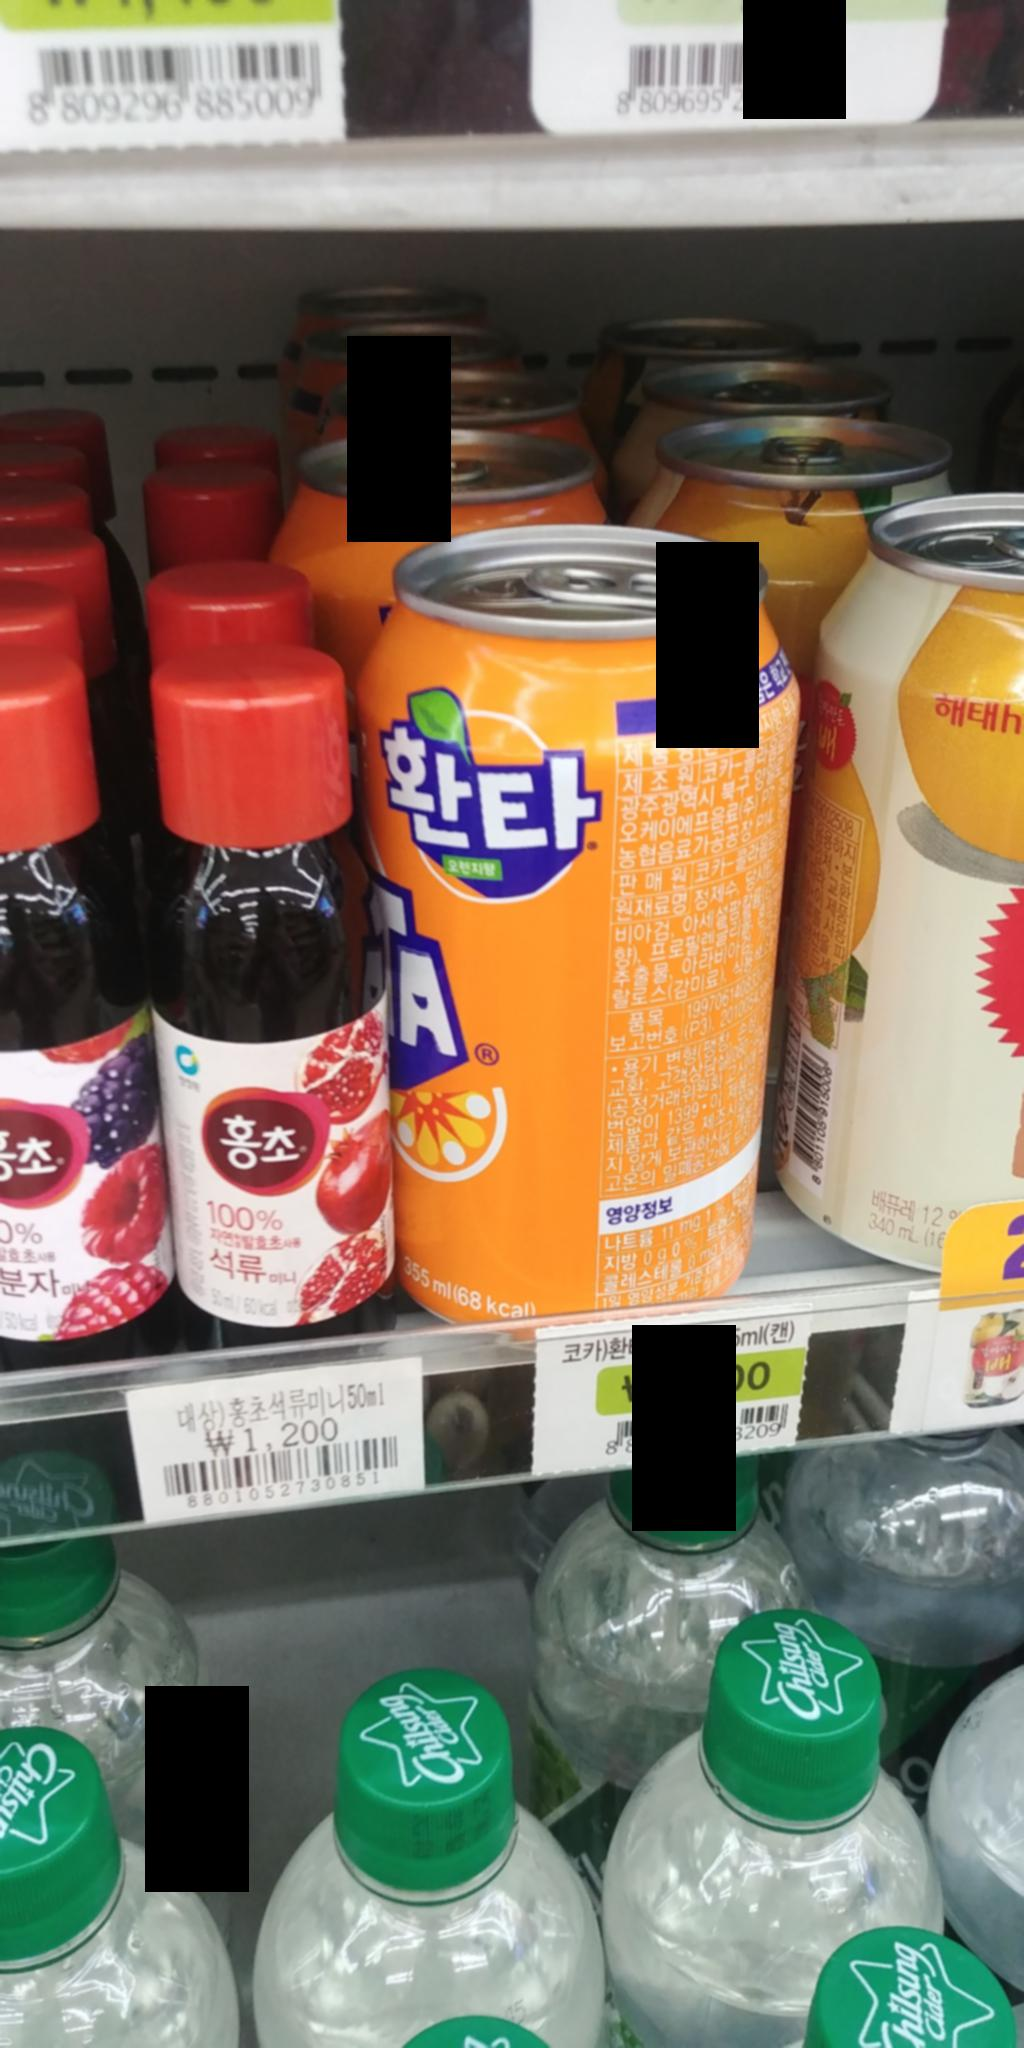fanta_orange: (367, 519, 777, 1319)
